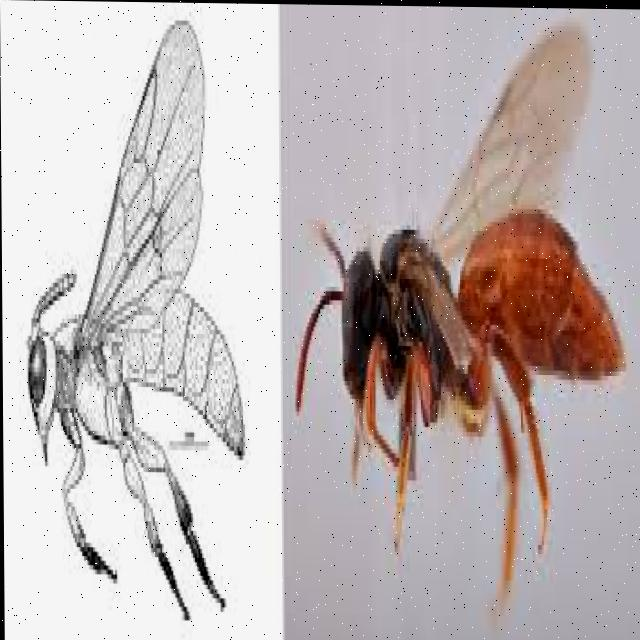Allodapula: (292, 4, 637, 634)
